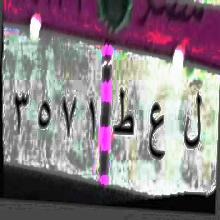1: (86, 90, 99, 149)
3: (13, 86, 30, 140)
5: (36, 93, 52, 138)
7: (60, 90, 78, 146)
Taa: (111, 79, 136, 143)
ain: (146, 98, 168, 173)
laam: (182, 83, 202, 168)
